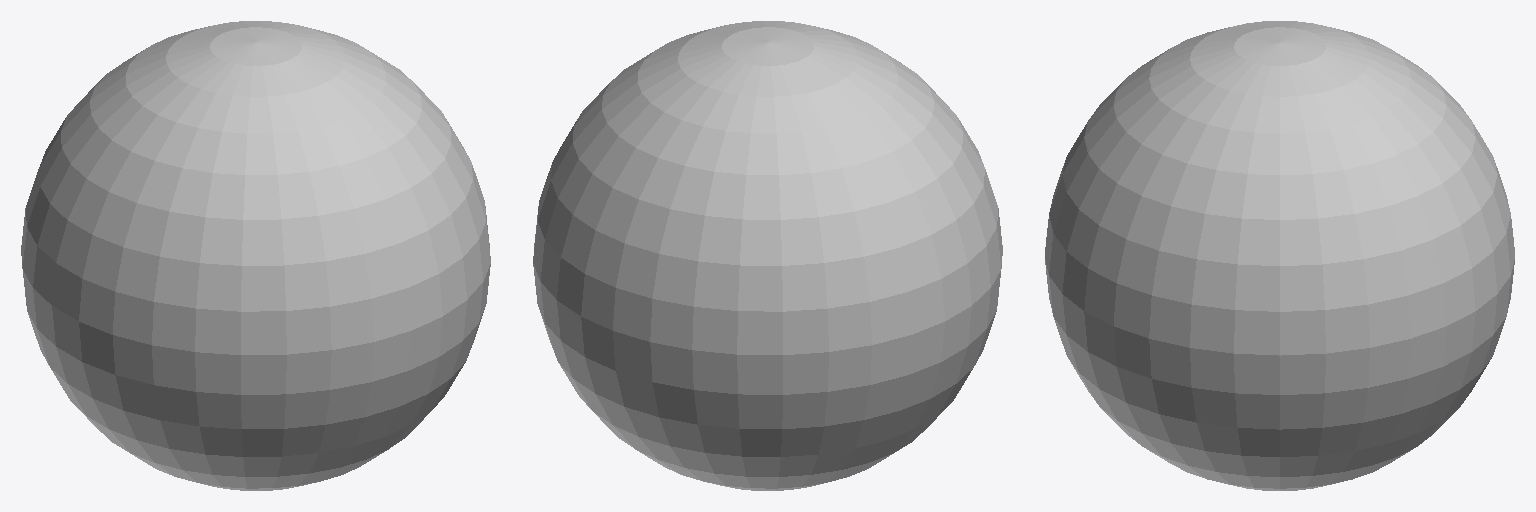
The model's file is sphere_lamp.obj.
The picture shows the model from 3 angles: view 1: azimuth 30°, elevation 25°; view 2: azimuth 150°, elevation 25°; view 3: azimuth 270°, elevation 25°; orthographic projection.
Parts seen in each view (by area): view 1: Sphere.001_Sphere.002; view 2: Sphere.001_Sphere.002; view 3: Sphere.001_Sphere.002.
Boxes of the visible parts, x1=… form: Sphere.001_Sphere.002: x1=21, y1=21, x2=490, y2=490; Sphere.001_Sphere.002: x1=533, y1=21, x2=1002, y2=490; Sphere.001_Sphere.002: x1=1045, y1=21, x2=1514, y2=490.
Bounding box in the file's own units: 1.33 × 1.33 × 1.33.